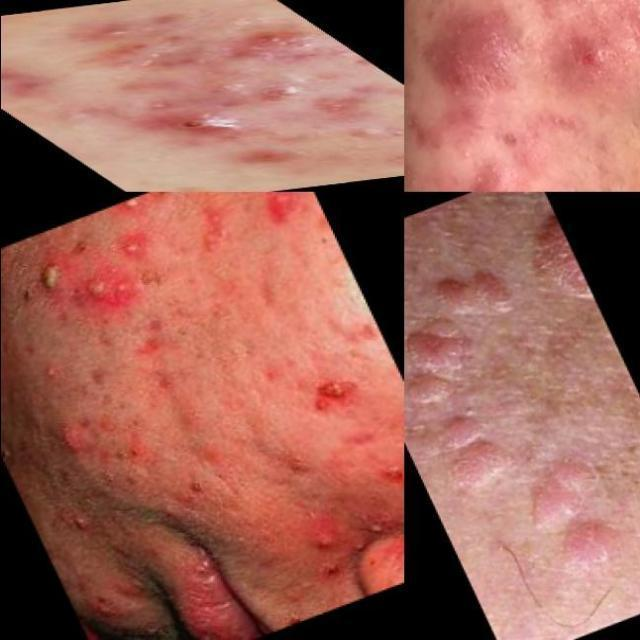cyst: (439, 419, 520, 499), (445, 18, 520, 102), (534, 208, 592, 294), (539, 450, 599, 519), (552, 524, 622, 579), (568, 35, 634, 90), (428, 273, 517, 311), (258, 178, 312, 239), (327, 74, 388, 121), (410, 324, 488, 357), (404, 371, 471, 407), (225, 18, 305, 47), (154, 120, 254, 141), (307, 378, 363, 411), (30, 258, 65, 300), (54, 424, 92, 453), (87, 267, 112, 311), (67, 508, 98, 534), (387, 458, 405, 501), (315, 524, 331, 560), (121, 239, 147, 257), (123, 198, 150, 212)
